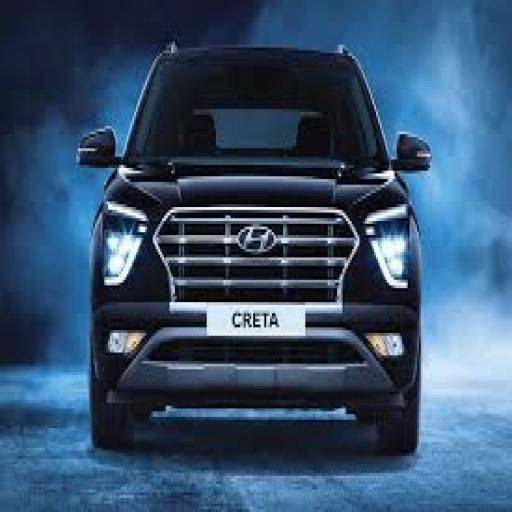car: (69, 18, 467, 486)
